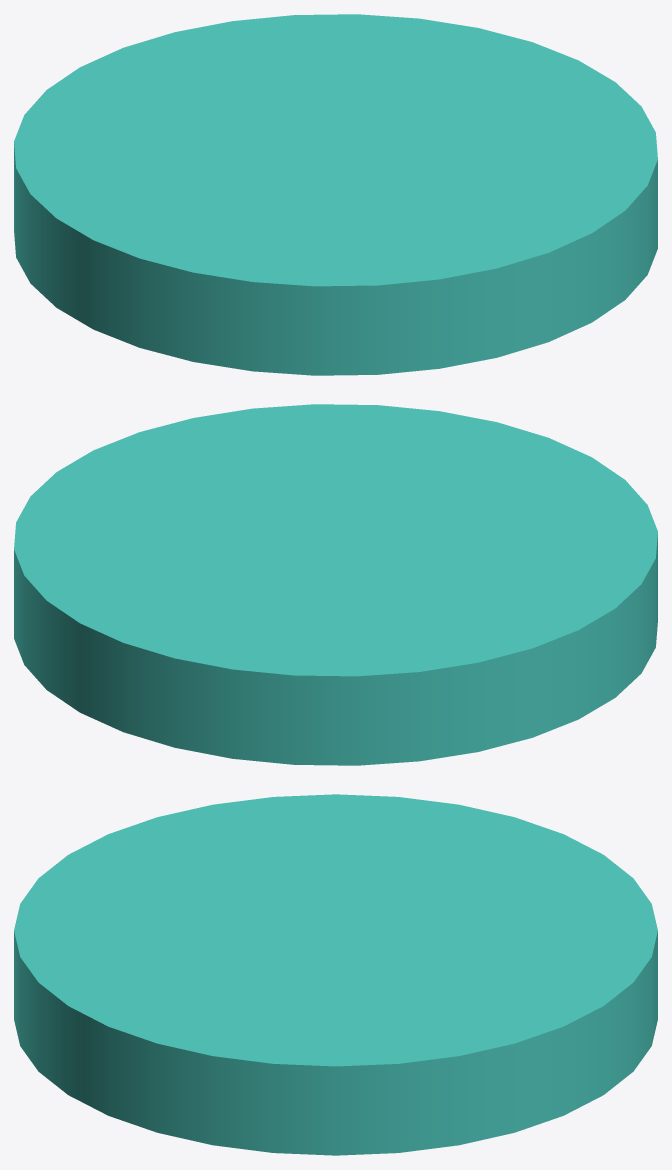
File: plate.glb
3 views of the same model, one above another, from view 1: azimuth 30°, elevation 25°; view 2: azimuth 150°, elevation 25°; view 3: azimuth 270°, elevation 25° (orthographic).
Size of the model in its own units: 1.44 by 0.22 by 1.44.
